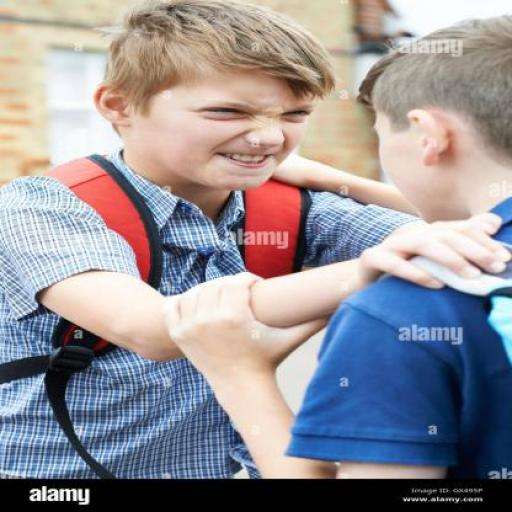Fighting: (2, 2, 510, 475)
